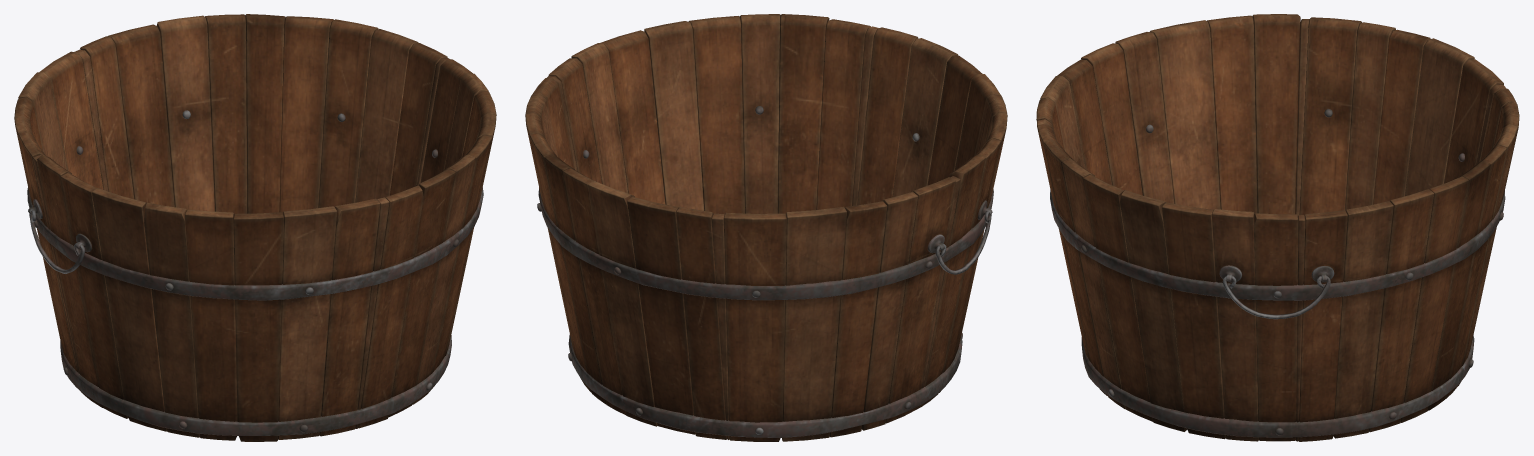
Rendered from wooden_bucket_02_2k.gltf.
3 renders of one model, left to right at view 1: azimuth 30°, elevation 25°; view 2: azimuth 150°, elevation 25°; view 3: azimuth 270°, elevation 25°, orthographic.
Visible parts, largest first — view 1: wooden_bucket_02, wooden_bucket_02_handle_01; view 2: wooden_bucket_02, wooden_bucket_02_handle_01; view 3: wooden_bucket_02, wooden_bucket_02_handle_02.
Part boxes in pixels (x1,y1,x2,y2): wooden_bucket_02: (14,14,496,441); wooden_bucket_02_handle_01: (29,210,84,273); wooden_bucket_02: (525,14,1007,441); wooden_bucket_02_handle_01: (935,211,991,274); wooden_bucket_02: (1036,14,1519,441); wooden_bucket_02_handle_02: (1222,275,1330,319).
Size of the model in its own units: 0.6153 by 0.3504 by 0.6163.
Materials: 1 (1 with a texture image).
